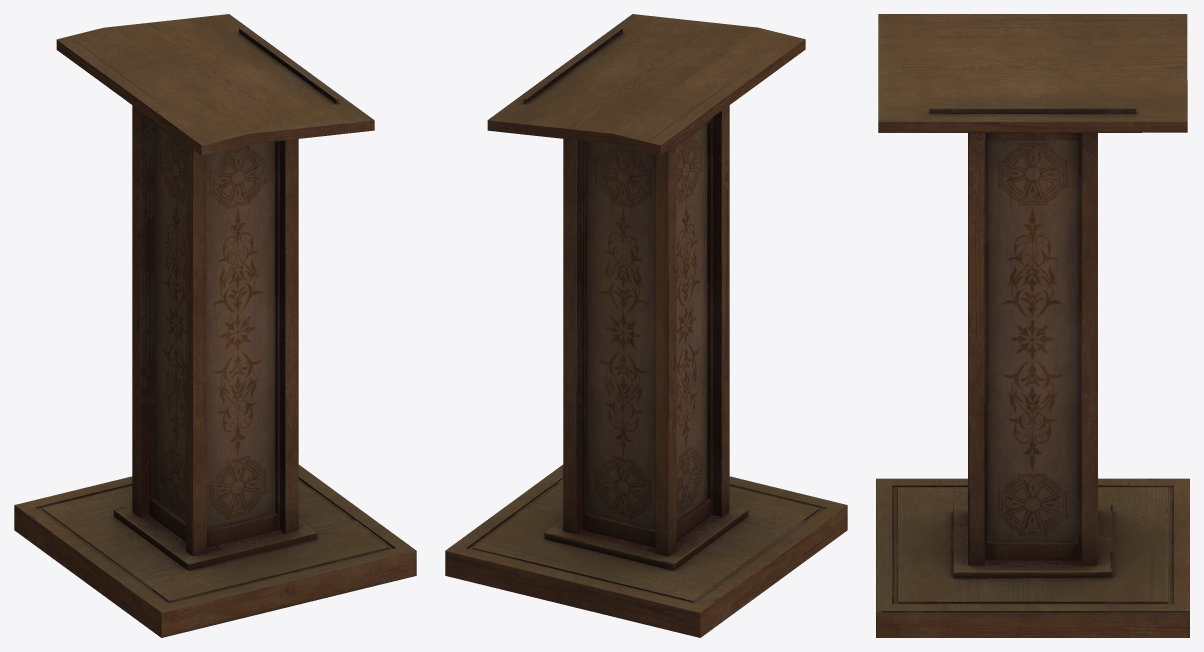
The model's file is stand.glb.
3 views of the same model, side by side, from view 1: azimuth 30°, elevation 25°; view 2: azimuth 150°, elevation 25°; view 3: azimuth 270°, elevation 25° (orthographic). The views are drawn at different scales.
Visible parts, largest first — view 1: Cube.013; view 2: Cube.013; view 3: Cube.013.
Part boxes in pixels (left/top/right/bottom): Cube.013: left=14, top=14, right=416, bottom=637; Cube.013: left=445, top=14, right=847, bottom=637; Cube.013: left=876, top=14, right=1189, bottom=637.
Size of the model in its own units: 0.5775 by 1.04 by 0.5775.
Materials: 2 (2 with a texture image).
